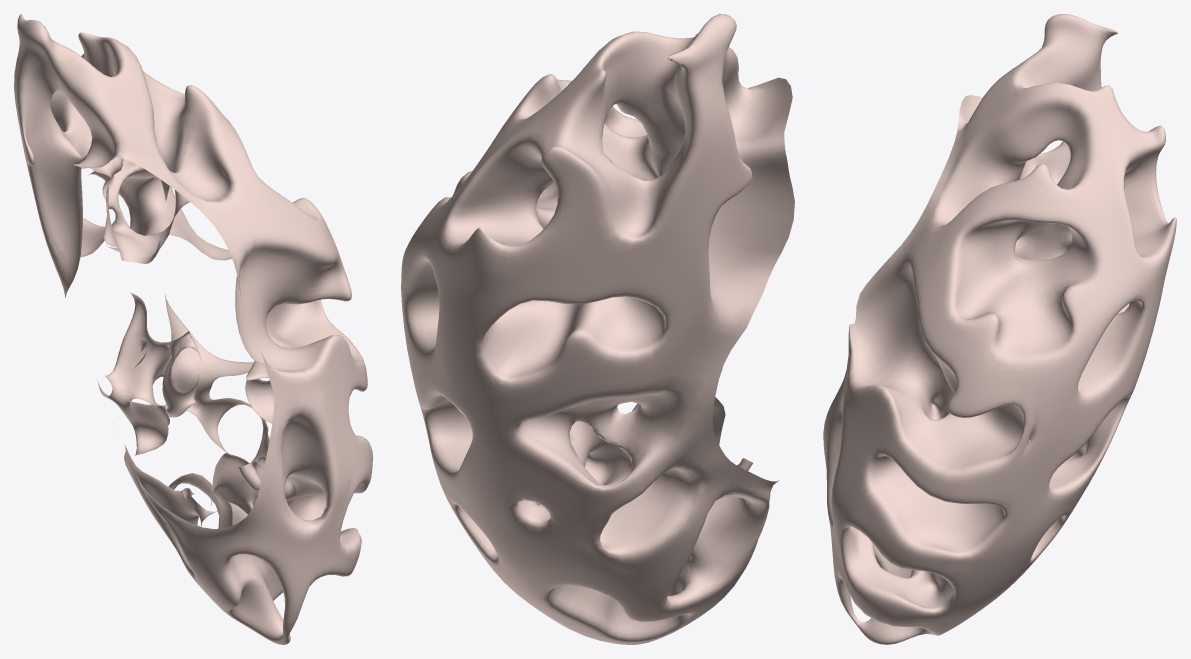
File: frau2-593.glb
3 renders of one model, left to right at view 1: azimuth 30°, elevation 25°; view 2: azimuth 150°, elevation 25°; view 3: azimuth 270°, elevation 25°, orthographic. The views are drawn at different scales.
Parts seen in each view (by area): view 1: VH_F_renal_column_L; view 2: VH_F_renal_column_L; view 3: VH_F_renal_column_L.
Part boxes in pixels (box(x1,y1,x2,y2)): VH_F_renal_column_L: box(14, 14, 372, 644); VH_F_renal_column_L: box(401, 14, 794, 644); VH_F_renal_column_L: box(823, 14, 1176, 644).
Bounding box in the file's own units: 0.0527 × 0.1021 × 0.0584.
